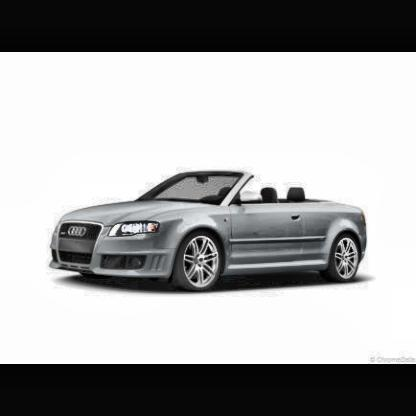Audi RS 4 Convertible 2008: (50, 169, 370, 294)
